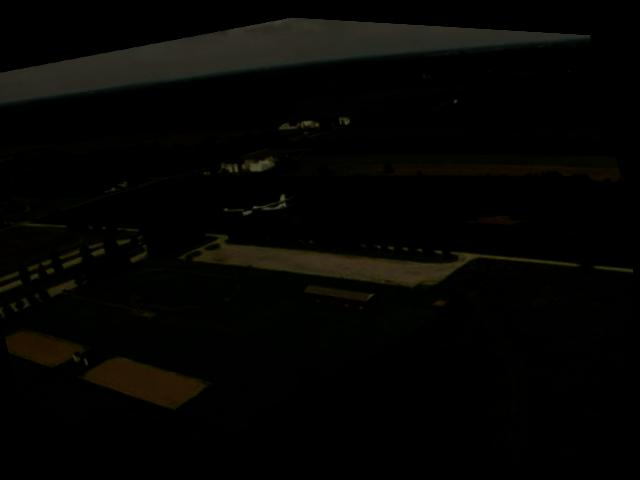uav: (215, 173, 311, 232)
